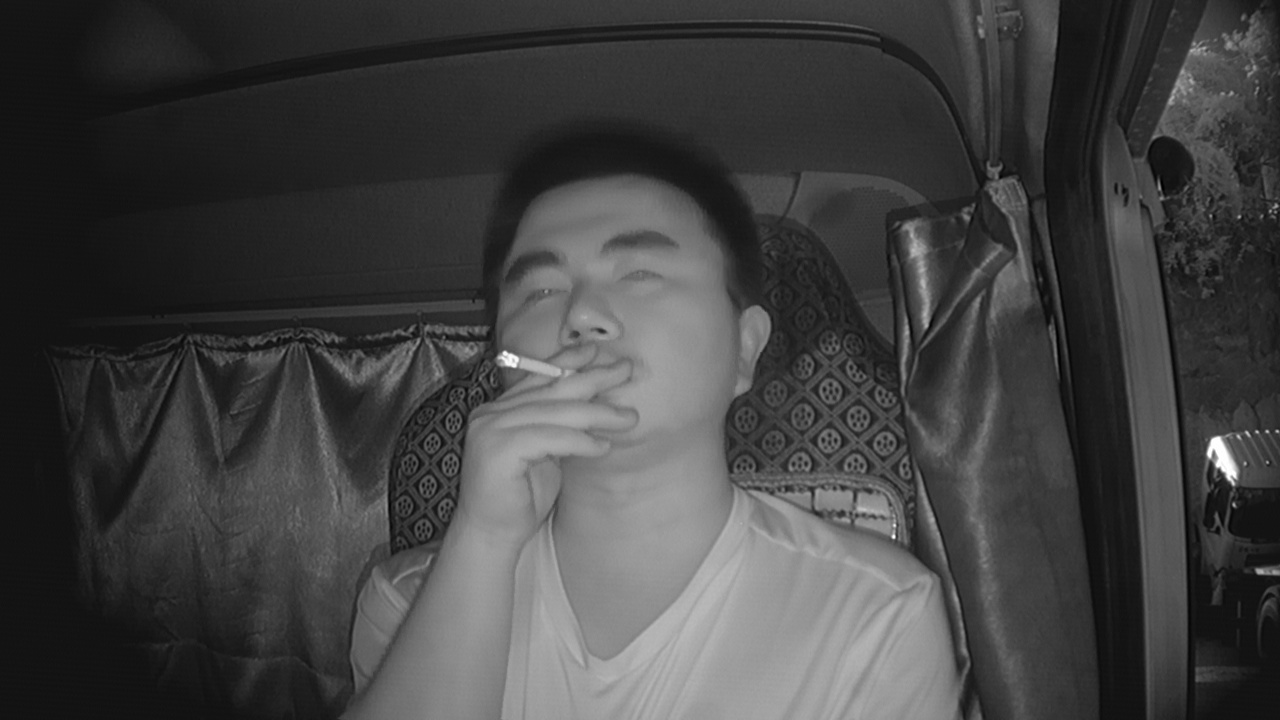hand: (462, 344, 630, 541)
